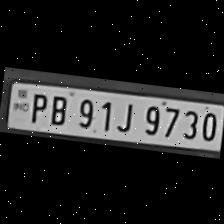0: (197, 107, 220, 141)
1: (94, 95, 116, 131)
3: (178, 105, 201, 140)
7: (158, 102, 181, 138)
9: (71, 92, 97, 128), (136, 100, 162, 135)
B: (44, 90, 72, 127)
J: (112, 96, 138, 132)
P: (25, 88, 48, 123)
